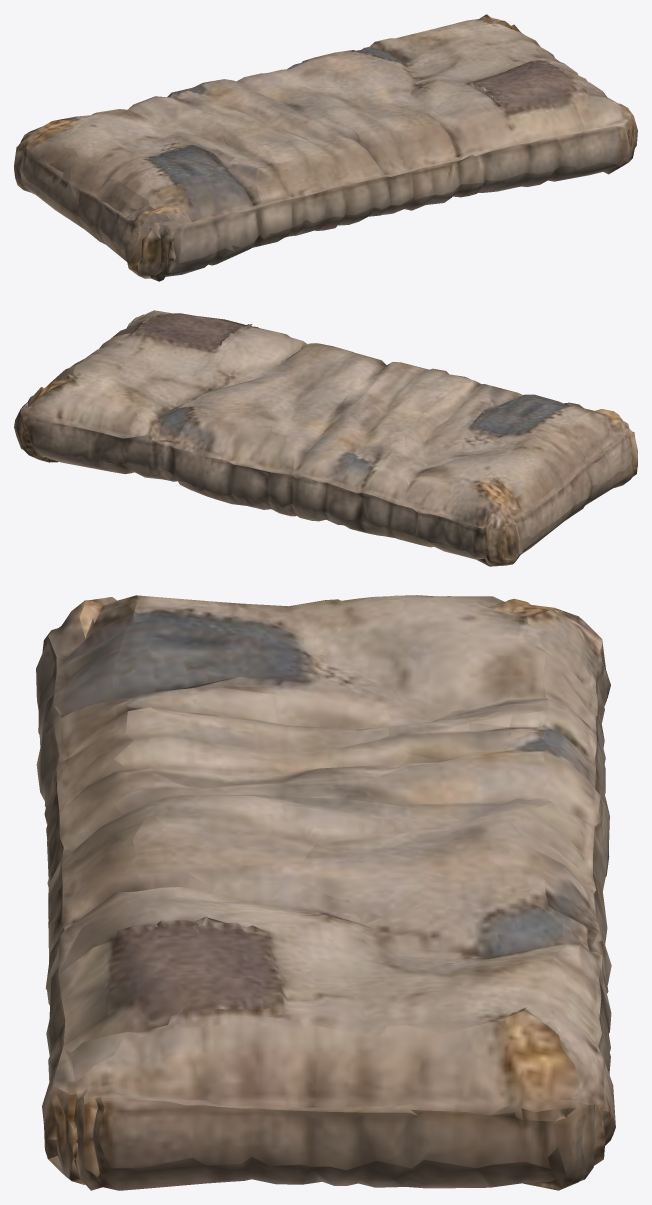
3 renders of one model, top to bottom at view 1: azimuth 30°, elevation 25°; view 2: azimuth 150°, elevation 25°; view 3: azimuth 270°, elevation 25°, orthographic. The views are drawn at different scales.
Parts seen in each view (by area): view 1: geometry_0; view 2: geometry_0; view 3: geometry_0.
Boxes of the visible parts, x1=… form: geometry_0: x1=14, y1=14, x2=637, y2=281; geometry_0: x1=14, y1=310, x2=637, y2=566; geometry_0: x1=36, y1=595, x2=615, y2=1190.
Size of the model in its own units: 1.9 by 0.3252 by 0.9444.
Materials: 1 (1 with a texture image).
